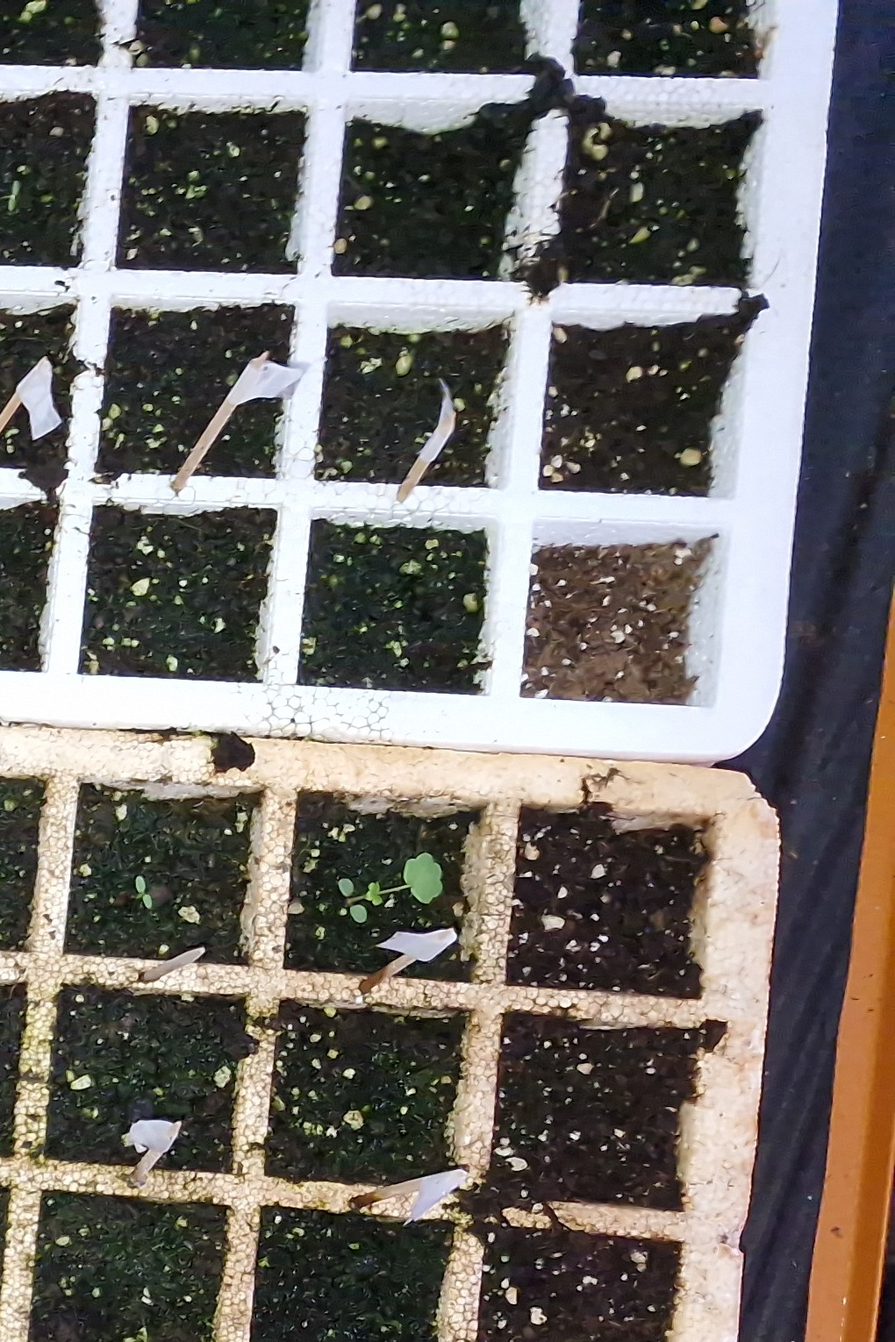Folha: (404, 854, 442, 904), (365, 881, 382, 906), (338, 878, 354, 897), (350, 905, 367, 922), (136, 877, 145, 892)
Germinacao: (338, 854, 441, 922), (136, 876, 153, 909)
